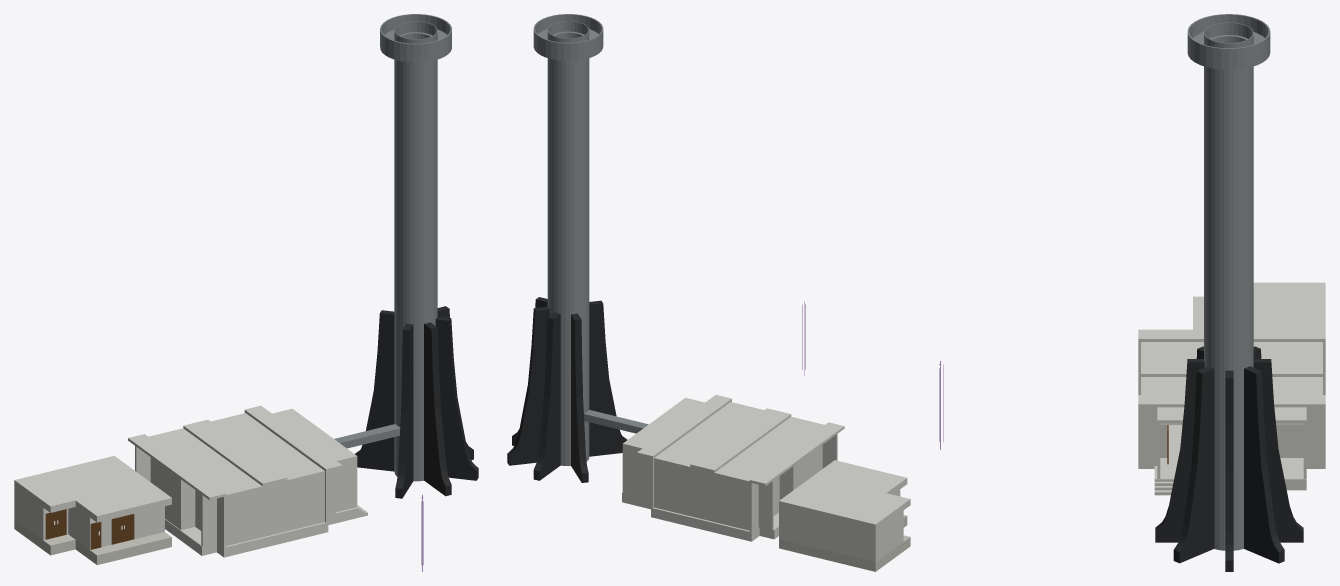
Rendered from Cerobong.glb.
3 renders of one model, left to right at view 1: azimuth 30°, elevation 25°; view 2: azimuth 150°, elevation 25°; view 3: azimuth 270°, elevation 25°, orthographic. The views are drawn at different scales.
Parts seen in each view (by area): view 1: Cube.297, Cerobong, Cube.007, Cube.210, Cube.086, Cube.081, Cerobong.005, Cube.142, Cerobong.004, Cerobong.003; view 2: Cube.297, Cerobong, Cube.007, Cube.210, Cube.086, Cerobong.005, Cube.081, Cube.142, Cerobong.004, Cerobong.003; view 3: Cerobong, Cube.007, Cube.297, Cube.210, Cerobong.005, Cerobong.004, Cerobong.003.
Part boxes in pixels (<box>): Cube.297: <box>128,405,367,557</box>; Cerobong: <box>394,59,437,481</box>; Cube.007: <box>355,306,478,498</box>; Cube.210: <box>14,455,171,522</box>; Cube.086: <box>14,487,164,549</box>; Cube.081: <box>14,519,171,565</box>; Cerobong.005: <box>380,14,451,55</box>; Cube.142: <box>334,424,400,448</box>; Cerobong.004: <box>394,21,437,43</box>; Cerobong.003: <box>380,29,451,62</box>; Cube.297: <box>622,395,844,541</box>; Cerobong: <box>547,58,589,465</box>; Cube.007: <box>507,297,627,482</box>; Cube.210: <box>779,460,910,530</box>; Cube.086: <box>779,489,903,562</box>; Cerobong.005: <box>533,14,603,54</box>; Cube.081: <box>779,515,910,571</box>; Cube.142: <box>584,410,648,433</box>; Cerobong.004: <box>547,21,589,42</box>; Cerobong.003: <box>533,29,603,60</box>; Cerobong: <box>1204,66,1253,550</box>; Cube.007: <box>1155,346,1303,571</box>; Cube.297: <box>1138,329,1325,495</box>; Cube.210: <box>1193,282,1325,329</box>; Cerobong.005: <box>1187,14,1270,62</box>; Cerobong.004: <box>1204,22,1253,48</box>; Cerobong.003: <box>1187,32,1270,69</box>.
Size of the model in its own units: 33.29 by 33.9 by 23.32.
